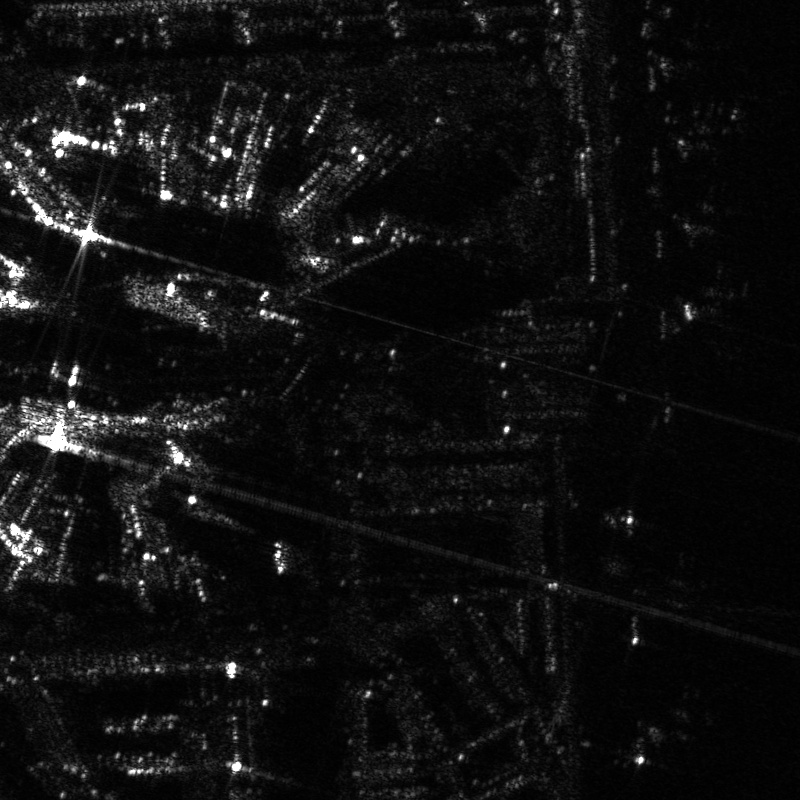A220: (636, 672, 744, 769), (673, 261, 754, 354), (677, 169, 754, 256), (673, 90, 751, 171)
